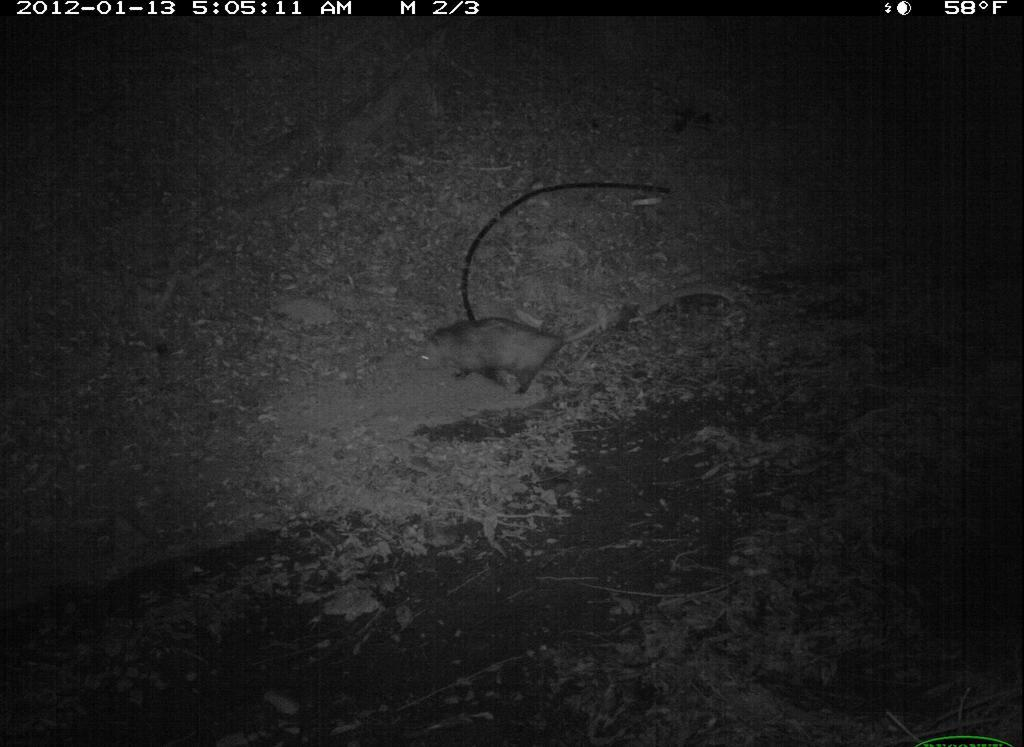opossum: (410, 305, 623, 397)
